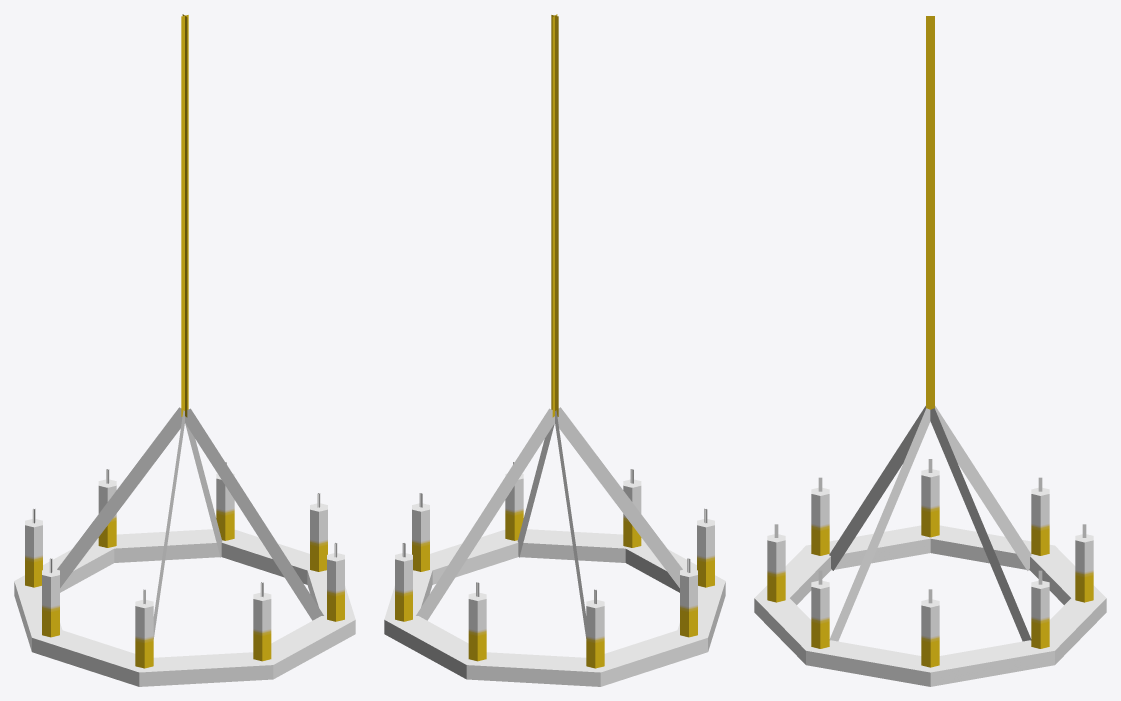
The model's file is Chandelier.fbx.
The picture shows the model from 3 angles, left to right: view 1: azimuth 30°, elevation 25°; view 2: azimuth 150°, elevation 25°; view 3: azimuth 270°, elevation 25°; orthographic projection.
Visible parts, largest first — view 1: chandelierFrame, chainLong, candles1, candles6, candles5, candles4, candles3, candles7, candles8, candles2; view 2: chandelierFrame, chainLong, candles2, candles7, candles8, candles4, candles3, candles6, candles5, candles1; view 3: chandelierFrame, chainLong, candles3, candles4, candles1, candles2, candles5, candles6, candles7, candles8.
Boxes of the visible parts, x1,y1,x2,y2 form: chandelierFrame: (14,407,355,686); chainLong: (181,14,188,417); candles1: (253,582,271,661); candles6: (135,589,153,668); candles5: (327,543,344,621); candles4: (42,558,59,637); candles3: (310,493,327,571); candles7: (25,508,42,587); candles8: (216,462,234,540); candles2: (98,469,116,547); chandelierFrame: (384,407,725,686); chainLong: (551,14,558,417); candles2: (468,582,486,661); candles7: (586,589,604,668); candles8: (395,543,412,621); candles4: (680,558,697,637); candles3: (412,493,429,571); candles6: (697,508,714,587); candles5: (505,462,523,540); candles1: (623,469,641,547); chandelierFrame: (754,406,1106,686); chainLong: (926,16,934,409); candles3: (921,589,939,667); candles4: (921,459,939,537); candles1: (767,524,785,602); candles2: (1075,524,1093,602); candles5: (811,570,829,648); candles6: (811,477,829,555); candles7: (1031,477,1049,555); candles8: (1031,570,1049,648).
Bounding box in the file's own units: 160 × 299 × 160.
